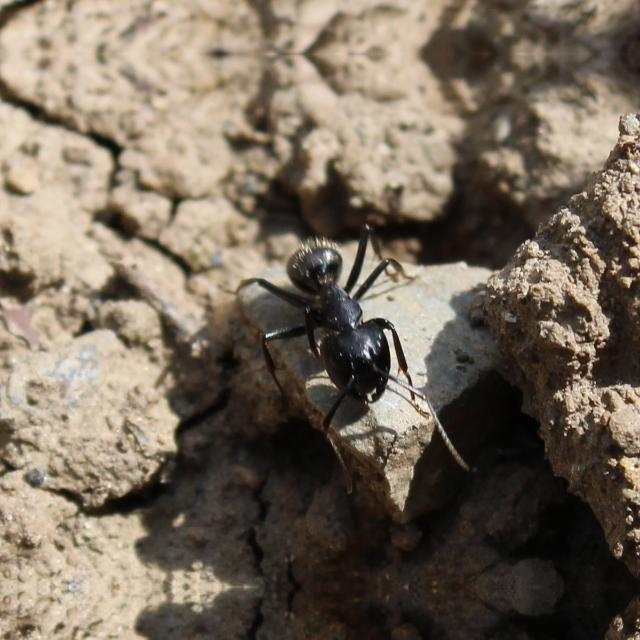Camponotus: (217, 194, 458, 442)
